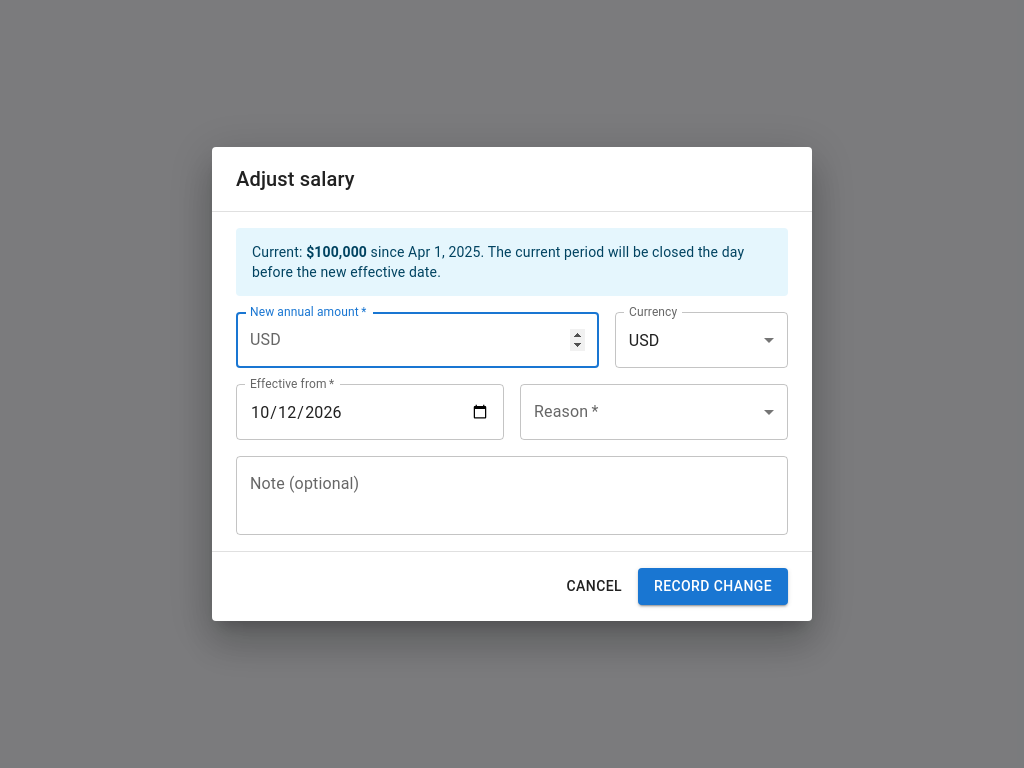
Test: AdjustSalaryDialog › maps server-side errors onto the field
Type "1" into the number field labelled "New annual amount *".
click(444, 340); type("1")  # box [289,312,599,368]
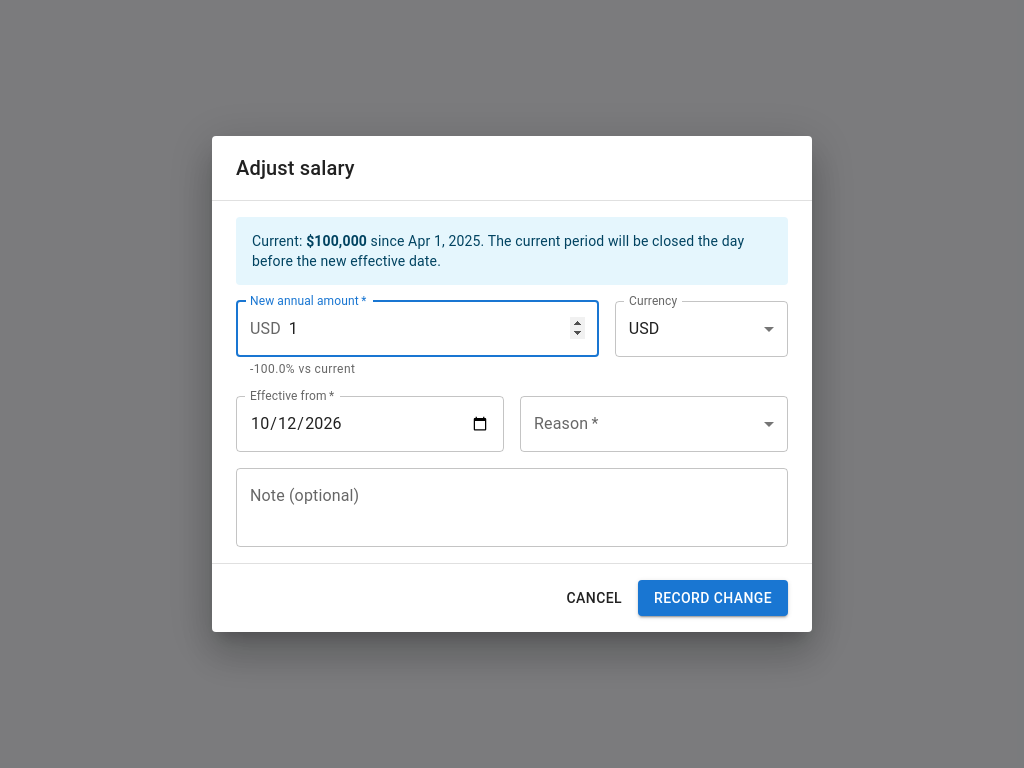
Type "2026-04-01" into the date field labelled "Effective from *".
click(370, 424); type("2026-04-01")  # box [236,396,504,452]
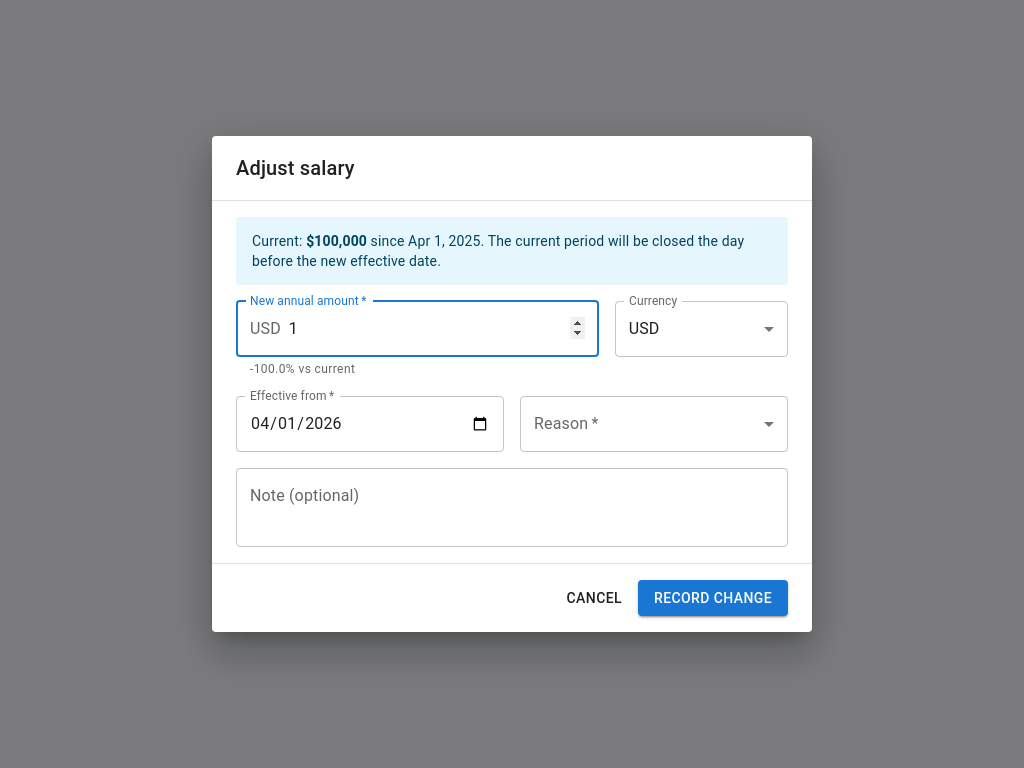
Click the dropdown named "Reason".
click(654, 424)  # box [520,396,788,452]
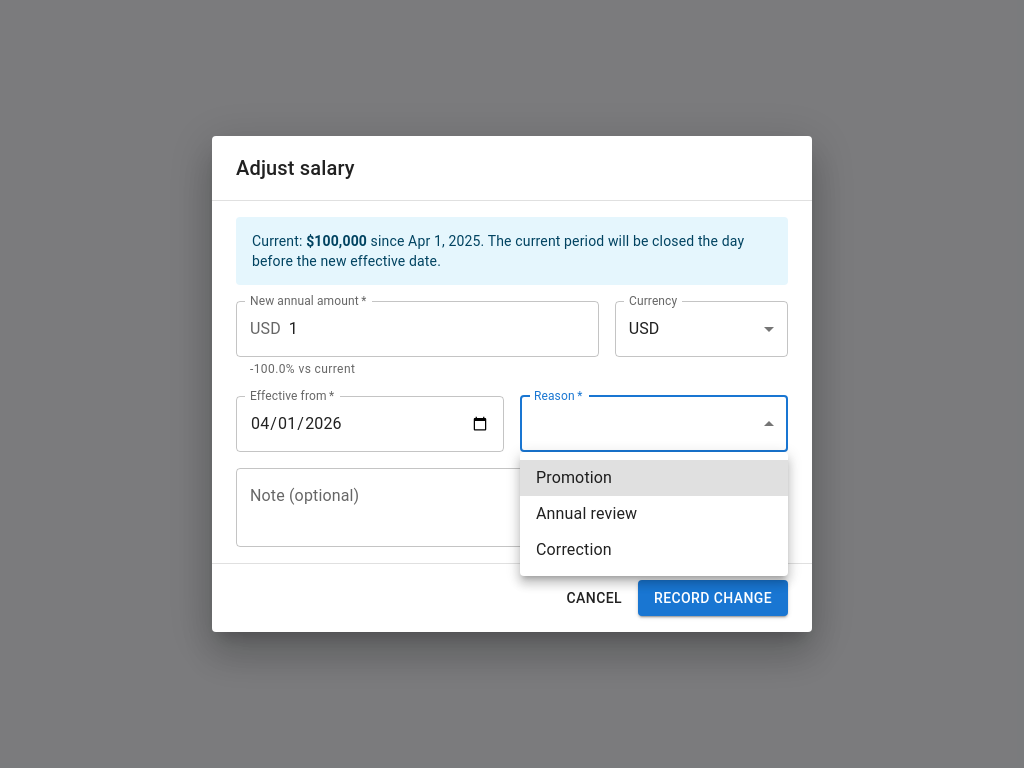
Click the option "Correction".
click(574, 550)  # box [536,540,612,559]
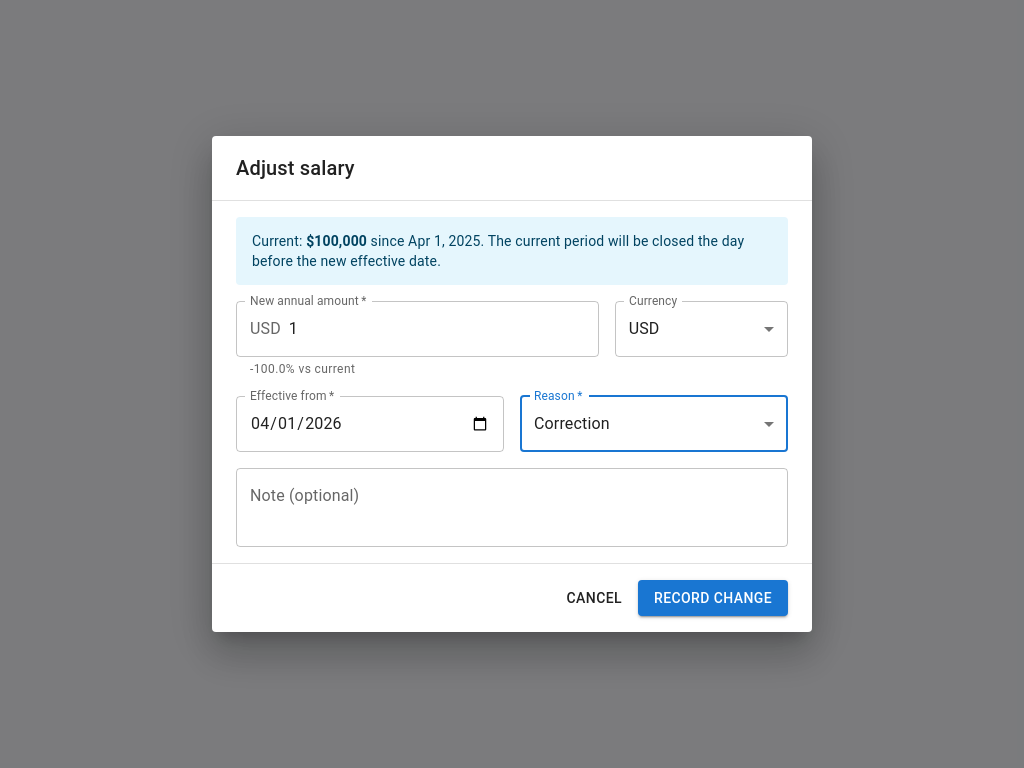
Click the button "Record change".
click(713, 598)  # box [638,580,788,616]
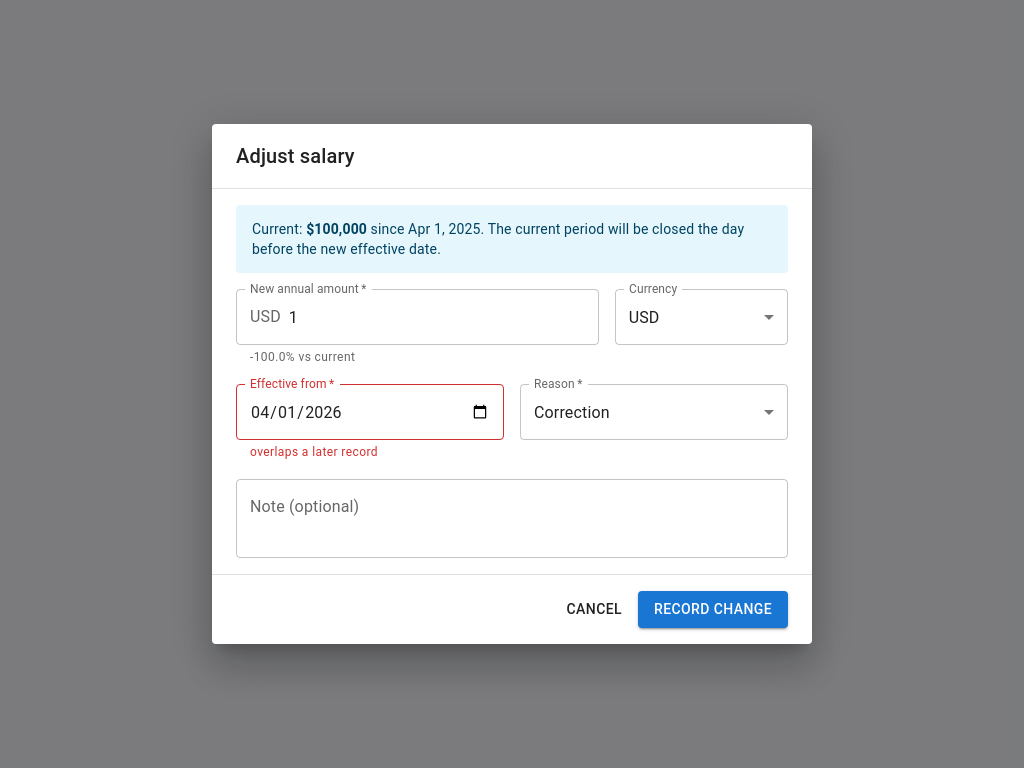
Check: the text "overlaps a later record" is shown, box [250,445,378,459]
